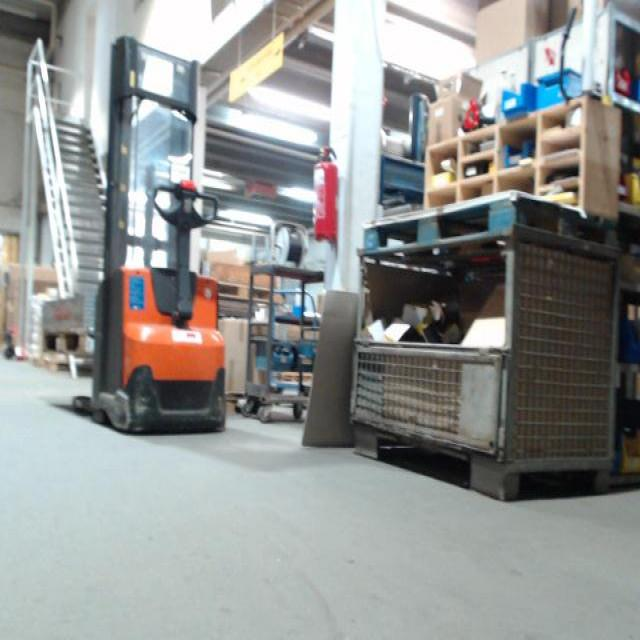pallet: (361, 188, 529, 244), (42, 325, 98, 359)
pallet_truck: (60, 31, 231, 442)
stillage: (355, 247, 622, 503)
